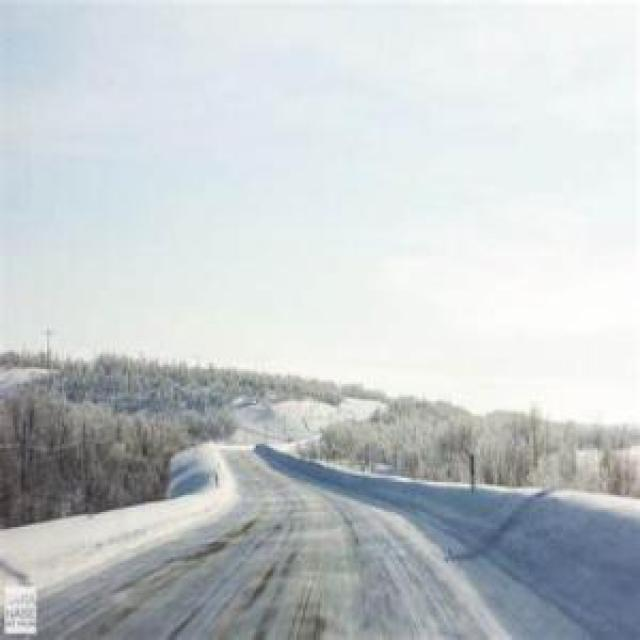ice-road: (51, 454, 519, 637)
